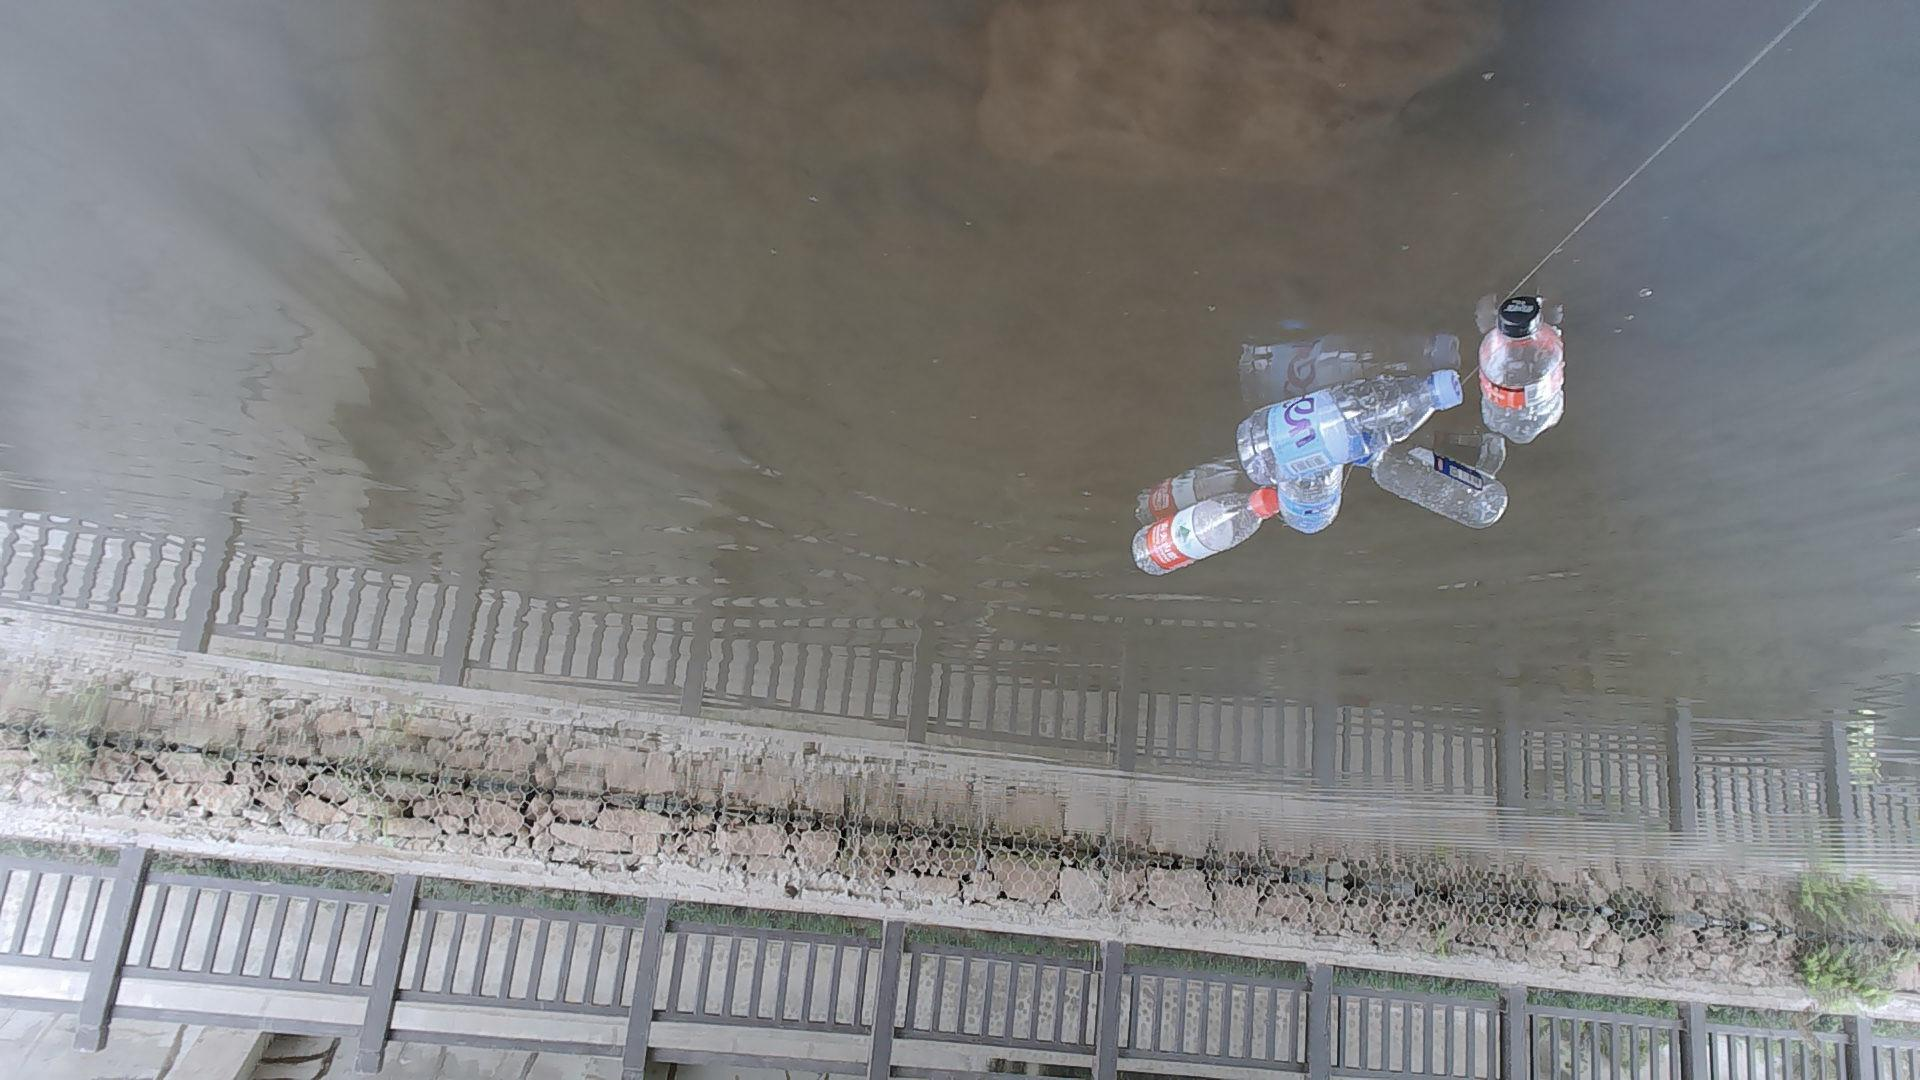Metal: (1279, 471, 1352, 538)
Plastic: (1233, 365, 1466, 483), (1472, 287, 1572, 454), (1348, 436, 1514, 535), (1127, 493, 1280, 593)
